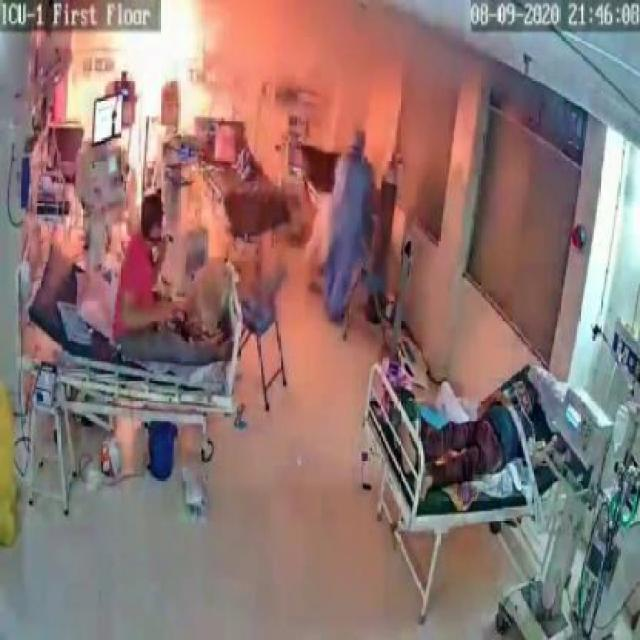fire: (119, 16, 212, 149)
